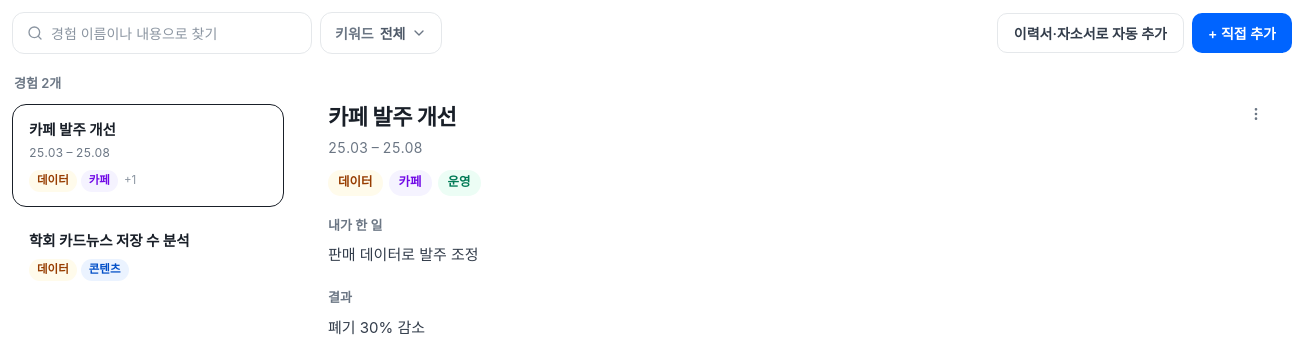
Scenario: 내 경험 › 찾기 칸 옆 키워드 드롭다운과 찾기로 거른다
The width and height of the screenshot is (1304, 352).
Expected: the list named "경험 목록" is shown, [12,104,284,296]
Click the button "키워드 전체" at (381, 33), box [320,12,442,54]
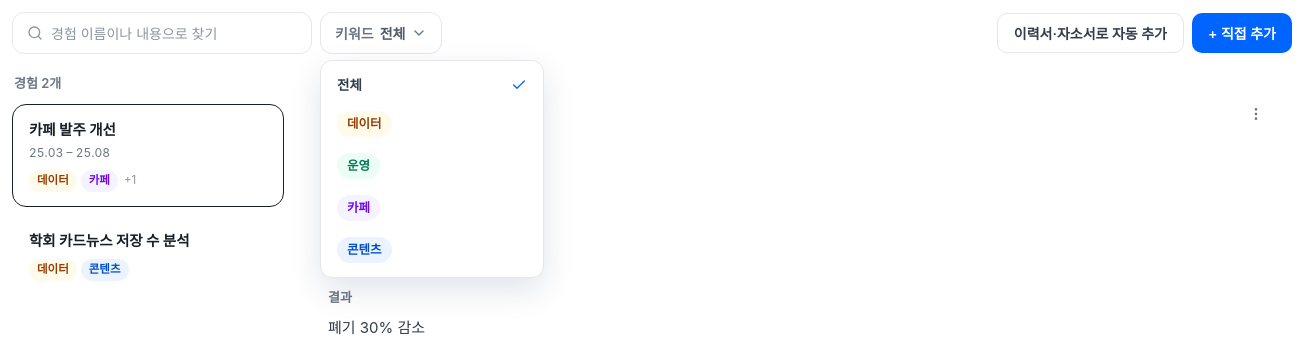
Expected: the options read "전체", "데이터", "운영", "카페", "콘텐츠", in this order
Click the option "콘텐츠" at (432, 250), box [327,229,537,271]
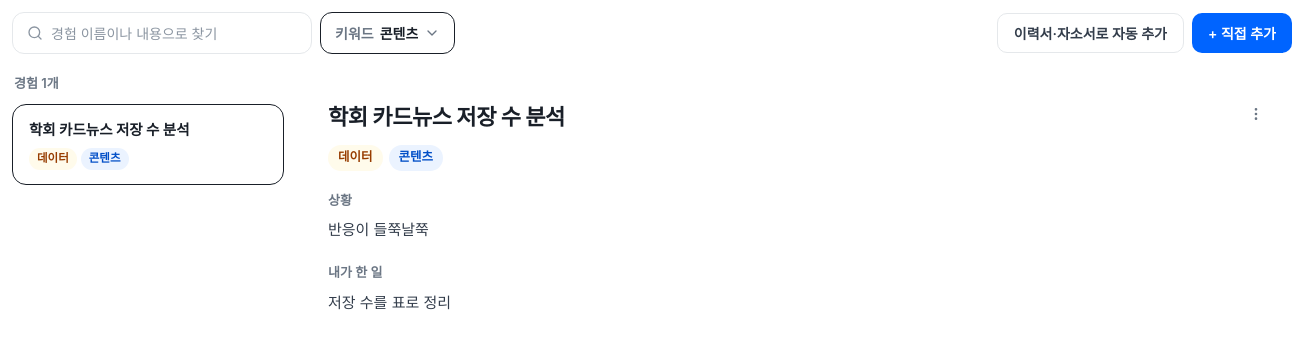
Expected: the list "전체 데이터 운영 카페 콘텐츠" is gone
Expected: the button "키워드 콘텐츠" is shown
Click the button "키워드 콘텐츠" at (388, 33), box [320,12,455,54]
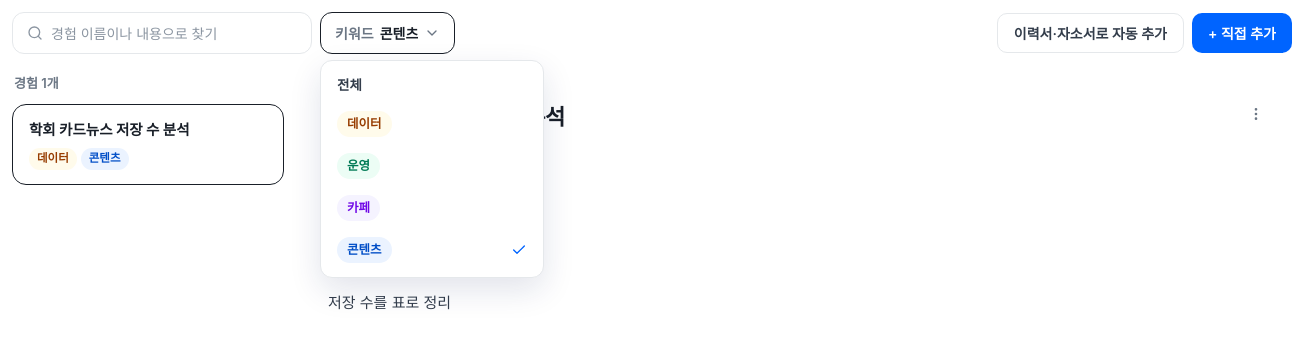
Click the option "전체" at (432, 85), box [327,67,537,103]
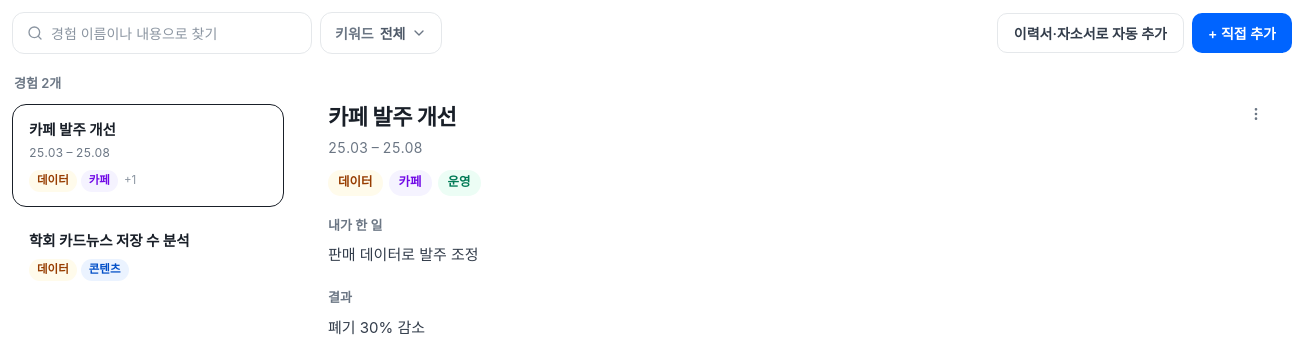
Type "폐기" into the search field labelled "경험 이름이나 내용으로 찾기" at (174, 33), box [51,22,297,44]
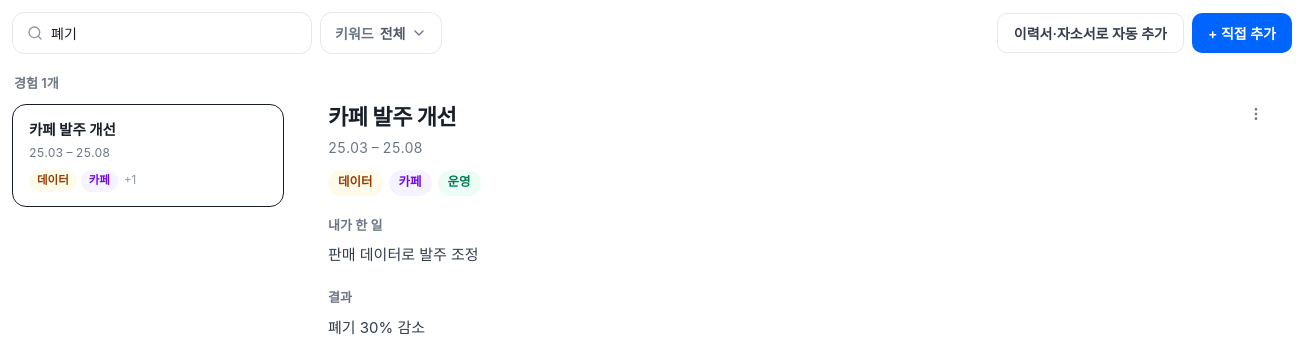
Replace the text in the search field named "경험 이름이나 내용으로 찾기" with "없는 말" at (174, 33), box [51,22,297,44]
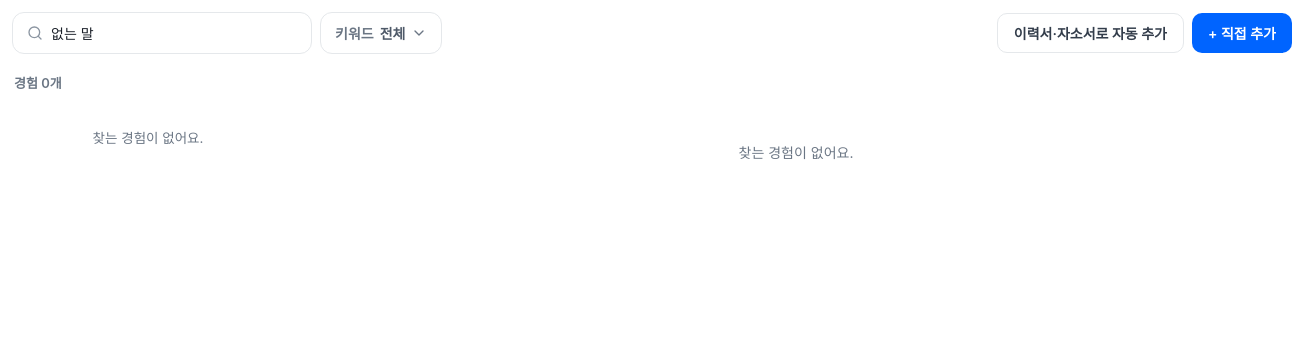
Expected: the text "찾는 경험이 없어요." below "경험 0개" is shown, [93,130,203,146]
